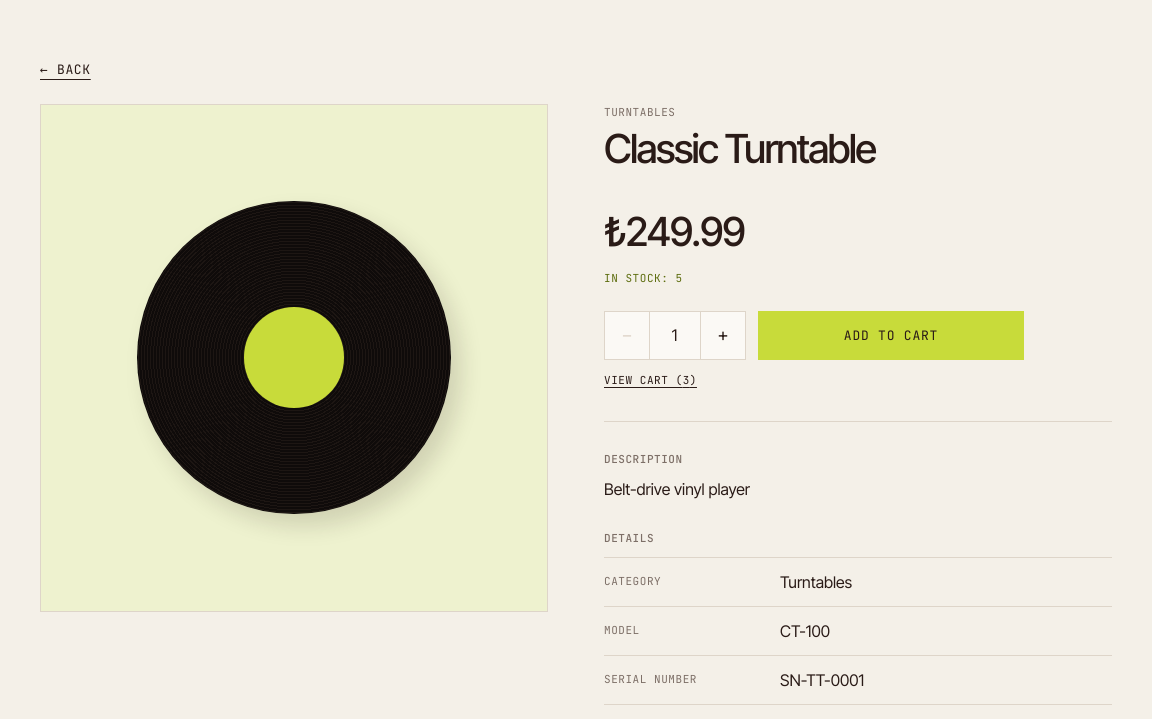
Test case: ProductDetailPage › only lets you add what is left after the cart
Later steps or results of the test are not shown.
Expected: the text "In stock: 5" is shown, [604,270,683,286]
Replace the text in the number field named "Quantity" with "9" at (675, 335), box [649,312,701,359]
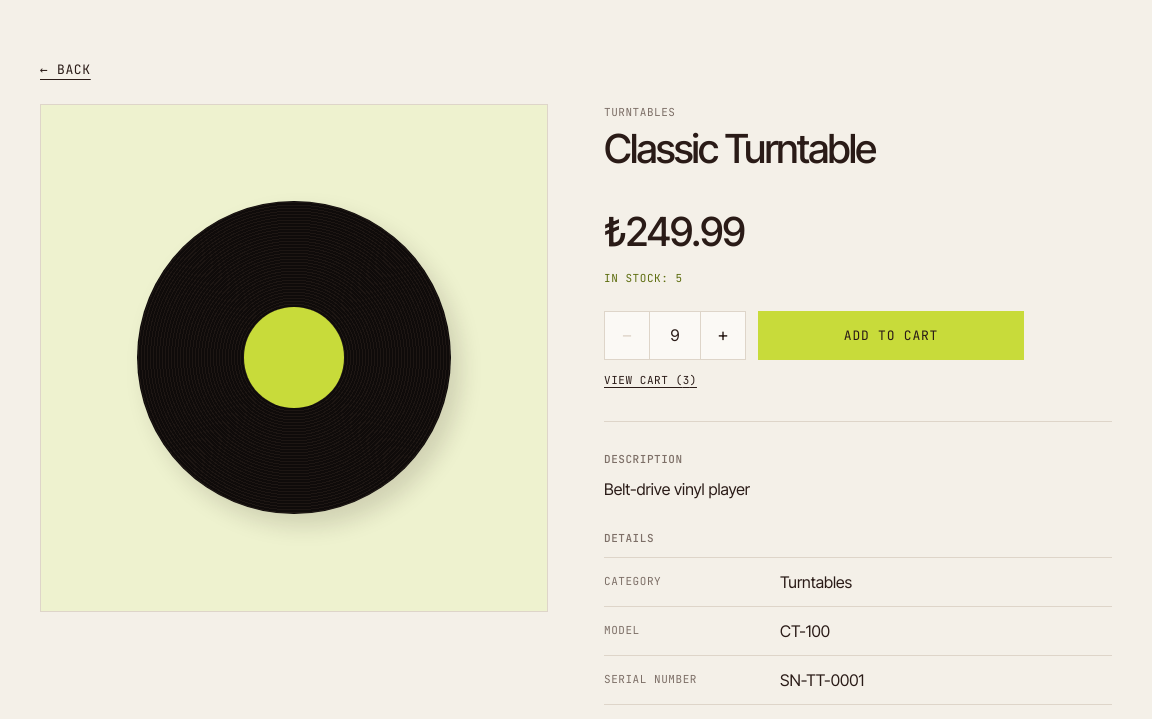
Leave the number field named "Quantity", box [649,312,701,359]
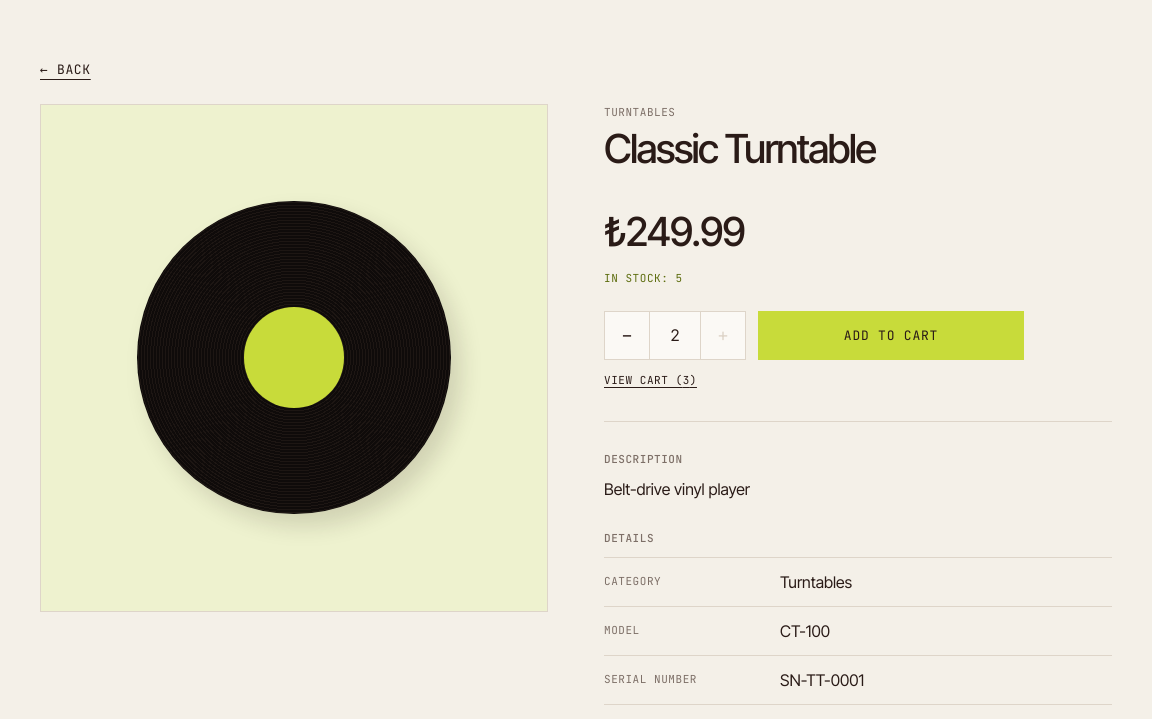
Now the number field named "Quantity" holds "2", box [649,312,701,359]
